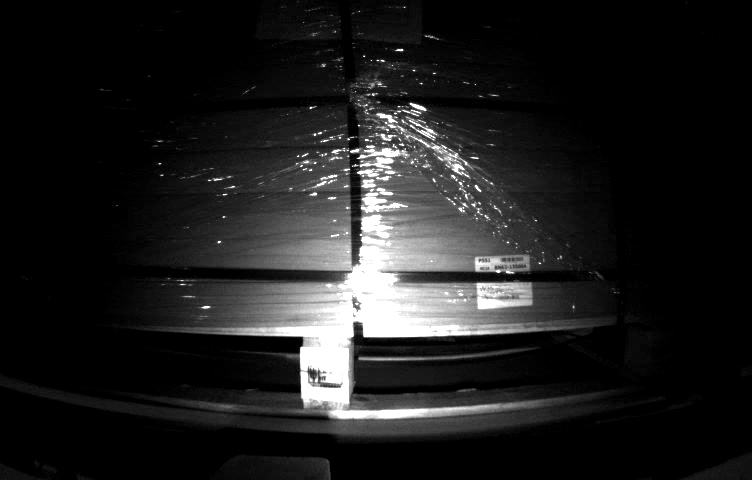True Barcode: (475, 255, 532, 304)
